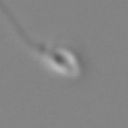abnormal: (1, 1, 51, 55)
